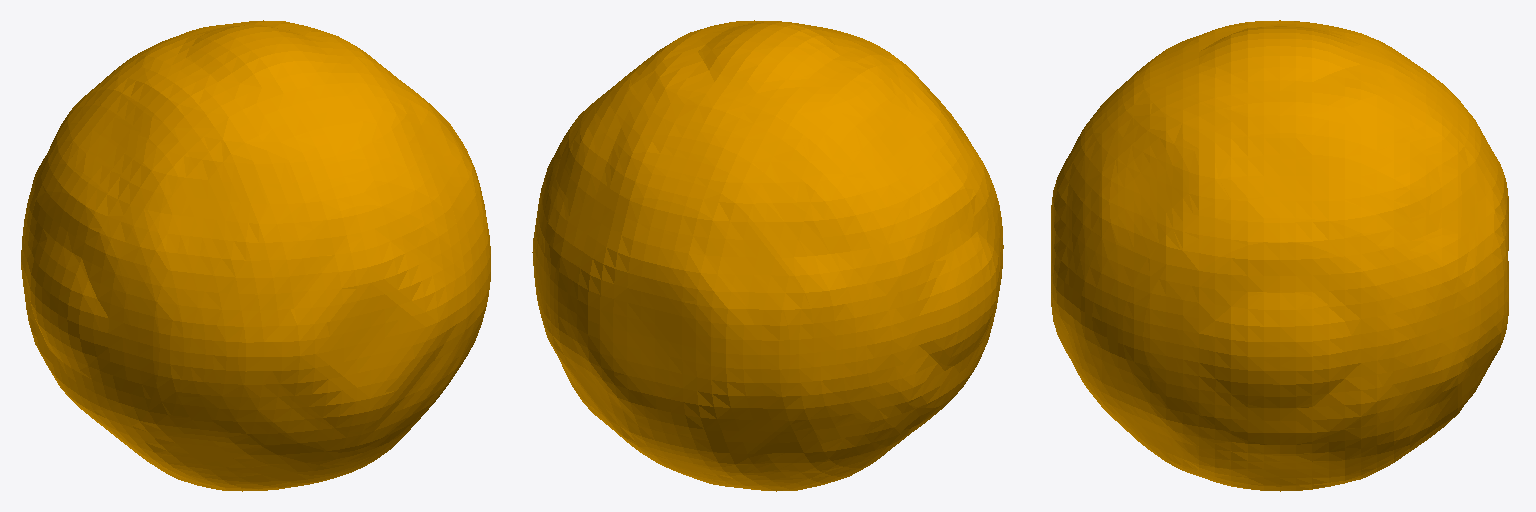
The robot description file, URDF, robot "C01_3":
<?xml version="1.0"?>
<robot name="C01_3">
  <link name="base_link">
    <inertial>
      <mass value="0.07470" />
      <origin xyz="0 0 0" />
      <inertia  ixx="0.0002" ixy="0.0"  ixz="0.0"  iyy="0.0002"  iyz="0.0" izz="0.0002" />
    </inertial>
    <visual>
      <geometry>
        <mesh filename="../../../meshes/egad/train/C01_3.obj" />
      </geometry>
    </visual>
    <collision>
      <geometry>
        <mesh filename="../../../meshes/egad/train/C01_3.obj" />
      </geometry>
    </collision>
  </link>
</robot>

--- Render facts (derived) ---
Views: 3 orthographic renders of the robot side by side, from view 1: azimuth 30°, elevation 25°; view 2: azimuth 150°, elevation 25°; view 3: azimuth 270°, elevation 25°.
Model C01_3 with 1 links and 0 joints (none), rooted at base_link, posed every joint at zero.
Links seen in each view (by area): view 1: base_link; view 2: base_link; view 3: base_link.
Link boxes in pixels (left/top/right/bottom): base_link: left=21, top=20, right=490, bottom=491; base_link: left=532, top=20, right=1003, bottom=491; base_link: left=1051, top=20, right=1508, bottom=491.
Size in the robot's own frame: 0.0631 by 0.0603 by 0.0631 metres.
Meshes: 1 distinct files referenced, 1 mesh visuals loaded (1 OBJ).